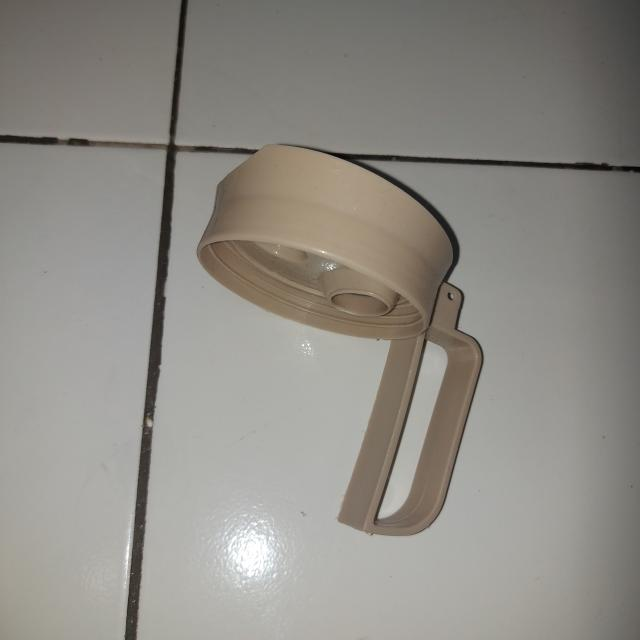Anorganik: (196, 142, 482, 539)
